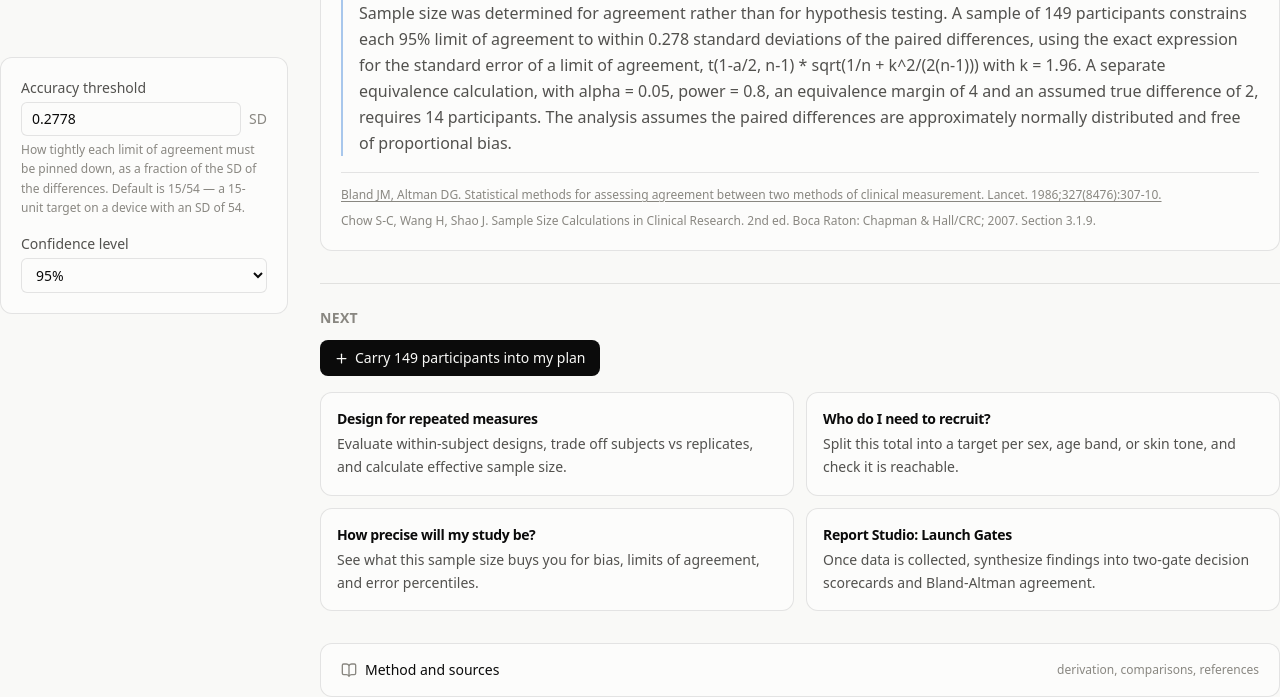
it: carrying a plan between modules › carries the computed sample size into the plan and persists it
(page scrolled)
Click the button "Carry 149 participants into my plan": (460, 358) [320,340,600,376]
(page scrolled)
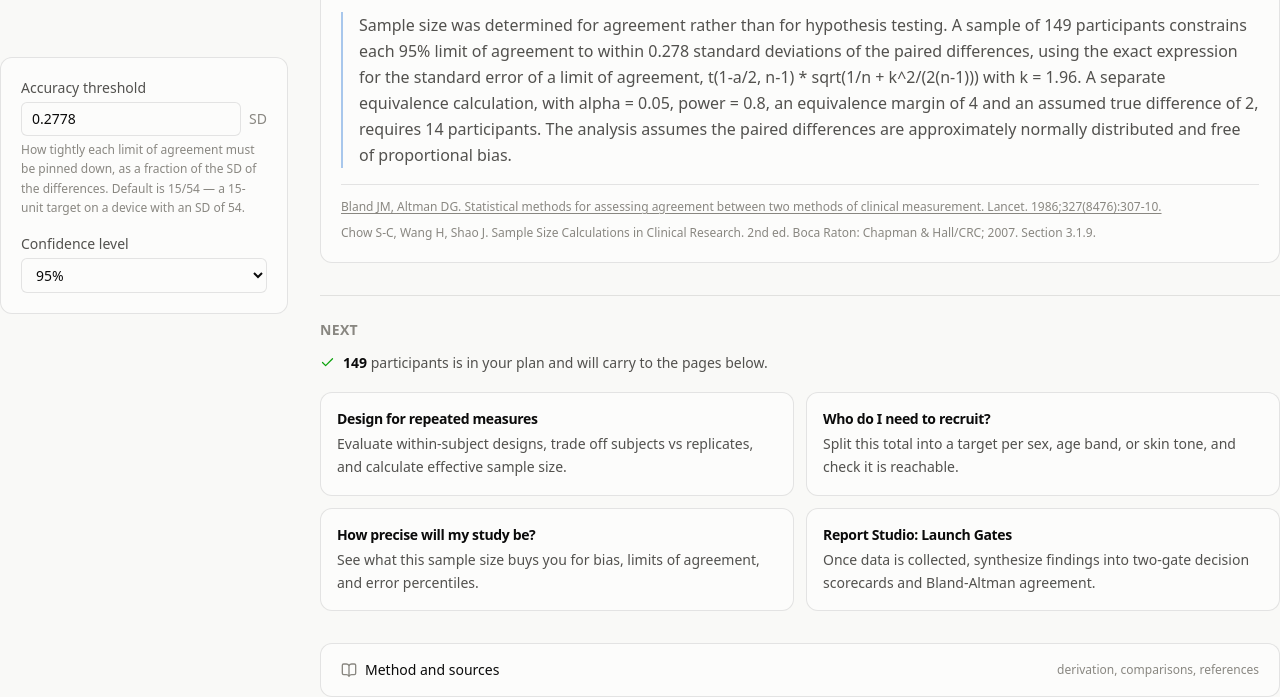
Expected: the text "is in your plan" is shown, [367,353,768,372]
